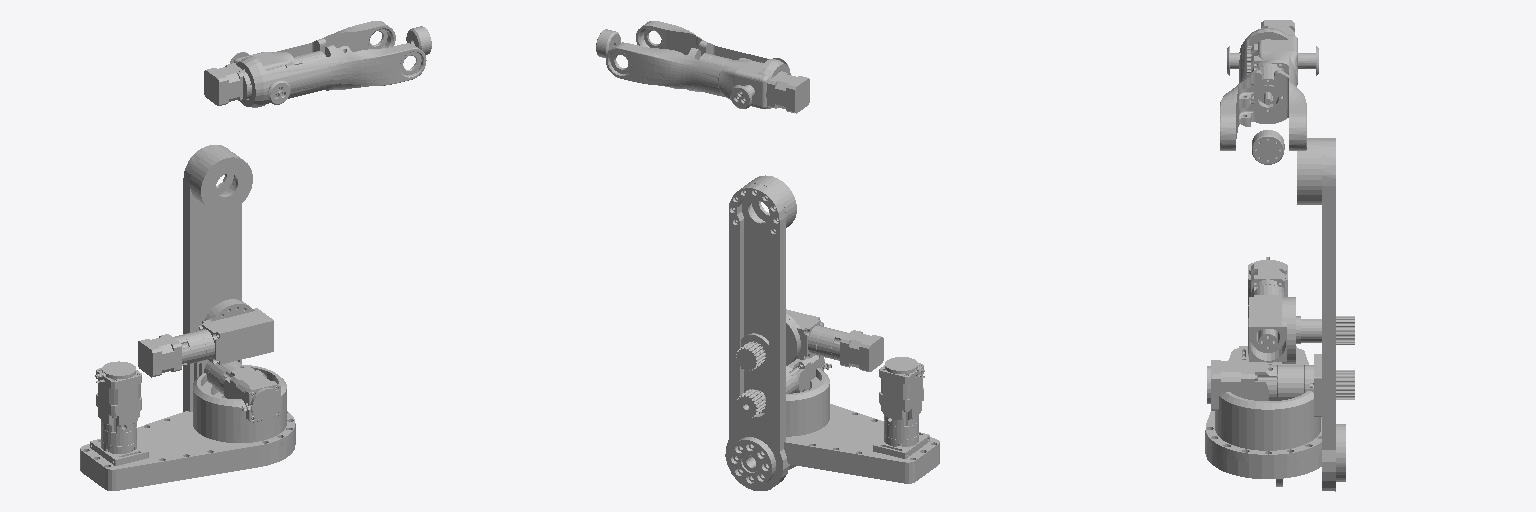
The robot description file, URDF, robot "robotic_arm_2":
<?xml version="1.0" encoding="utf-8"?>
<!-- This URDF was automatically created by SolidWorks to URDF Exporter! Originally created by [author] ([email redacted]) 
     Commit Version: 1.6.0-4-g7f85cfe  Build Version: 1.6.7995.38578
     For more information, please see http://wiki.ros.org/sw_urdf_exporter -->
<robot
  name="robotic_arm_2">
  <link
    name="base_link">
    <inertial>
      <origin
        xyz="-0.064318 2.9623E-07 0.039257"
        rpy="0 0 0" />
      <mass
        value="0.83438" />
      <inertia
        ixx="0.00098057"
        ixy="6.484E-08"
        ixz="2.6509E-06"
        iyy="0.0027303"
        iyz="-3.8674E-10"
        izz="0.0033643" />
    </inertial>
    <visual>
      <origin
        xyz="0 0 0"
        rpy="0 0 0" />
      <geometry>
        <mesh
          filename="package://arm_control/description/meshes/base_link.STL" />
      </geometry>
      <material
        name="">
        <color
          rgba="0.75294 0.75294 0.75294 1" />
      </material>
    </visual>
    <collision>
      <origin
        xyz="0 0 0"
        rpy="0 0 0" />
      <geometry>
        <mesh
          filename="package://arm_control/description/meshes/base_link.STL" />
      </geometry>
    </collision>
  </link>
  <link
    name="Link2">
    <inertial>
      <origin
        xyz="4.73671831842074E-05 0.106679007769717 0.0209476634854827"
        rpy="0 0 0" />
      <mass
        value="0.970074967448887" />
      <inertia
        ixx="0.00102783014668973"
        ixy="-3.26835540486067E-07"
        ixz="-5.27045735747468E-07"
        iyy="0.00118699235618725"
        iyz="2.97677287496639E-06"
        izz="0.000705617069557207" />
    </inertial>
    <visual>
      <origin
        xyz="0 0 0"
        rpy="0 0 0" />
      <geometry>
        <mesh
          filename="package://arm_control/description/meshes/Link2.STL" />
      </geometry>
      <material
        name="">
        <color
          rgba="0.752941176470588 0.752941176470588 0.752941176470588 1" />
      </material>
    </visual>
    <collision>
      <origin
        xyz="0 0 0"
        rpy="0 0 0" />
      <geometry>
        <mesh
          filename="package://arm_control/description/meshes/Link2.STL" />
      </geometry>
    </collision>
  </link>
  <joint
    name="J2"
    type="revolute">
    <origin
      xyz="0 0 0"
      rpy="1.5708 0 0" />
    <parent
      link="base_link" />
    <child
      link="Link2" />
    <axis
      xyz="0 1 0" />
    <limit
      lower="0"
      upper="6.2832"
      effort="10"
      velocity="10" />
  </joint>
  <link
    name="Link3">
    <inertial>
      <origin
        xyz="-1.46417876076557E-06 0.117729185705366 -0.0378668860722142"
        rpy="0 0 0" />
      <mass
        value="0.577415758791343" />
      <inertia
        ixx="0.0036047406071256"
        ixy="6.47760305401943E-08"
        ixz="1.20114307201048E-07"
        iyy="0.000412136925722125"
        iyz="-1.52201263463148E-05"
        izz="0.00360983067595921" />
    </inertial>
    <visual>
      <origin
        xyz="0 0 0"
        rpy="0 0 0" />
      <geometry>
        <mesh
          filename="package://arm_control/description/meshes/Link3.STL" />
      </geometry>
      <material
        name="">
        <color
          rgba="0.752941176470588 0.752941176470588 0.752941176470588 1" />
      </material>
    </visual>
    <collision>
      <origin
        xyz="0 0 0"
        rpy="0 0 0" />
      <geometry>
        <mesh
          filename="package://arm_control/description/meshes/Link3.STL" />
      </geometry>
    </collision>
  </link>
  <joint
    name="J3"
    type="revolute">
    <origin
      xyz="0 0.14 0"
      rpy="0 0 0" />
    <parent
      link="Link2" />
    <child
      link="Link3" />
    <axis
      xyz="0 0 1" />
    <limit
      lower="-1.5708"
      upper="1.5708"
      effort="10"
      velocity="10" />
  </joint>
  <link
    name="Link4">
    <inertial>
      <origin
        xyz="-0.0328882111255075 8.45678153560403E-07 -0.0129958354849986"
        rpy="0 0 0" />
      <mass
        value="0.251663957012598" />
      <inertia
        ixx="6.72067273429369E-05"
        ixy="4.83904268931065E-09"
        ixz="-2.18784718458254E-08"
        iyy="0.000125285505512965"
        iyz="3.4987623387703E-15"
        izz="0.000132327236956115" />
    </inertial>
    <visual>
      <origin
        xyz="0 0 0"
        rpy="0 0 0" />
      <geometry>
        <mesh
          filename="package://arm_control/description/meshes/Link4.STL" />
      </geometry>
      <material
        name="">
        <color
          rgba="0.752941176470588 0.752941176470588 0.752941176470588 1" />
      </material>
    </visual>
    <collision>
      <origin
        xyz="0 0 0"
        rpy="0 0 0" />
      <geometry>
        <mesh
          filename="package://arm_control/description/meshes/Link4.STL" />
      </geometry>
    </collision>
  </link>
  <joint
    name="J4"
    type="revolute">
    <origin
      xyz="0 0.322 0"
      rpy="0 0 0" />
    <parent
      link="Link3" />
    <child
      link="Link4" />
    <axis
      xyz="0 0 1" />
    <limit
      lower="0"
      upper="6.28"
      effort="10"
      velocity="10" />
  </joint>
  <link
    name="Link5">
    <inertial>
      <origin
        xyz="0.0959443943338804 -0.000157341807048905 0.0010750794524604"
        rpy="0 0 0" />
      <mass
        value="0.300029723918034" />
      <inertia
        ixx="0.000212980238341323"
        ixy="-2.15575275811437E-07"
        ixz="-1.6194197089621E-05"
        iyy="0.000911097635143181"
        iyz="-6.20583067747309E-08"
        izz="0.000780565263602578" />
    </inertial>
    <visual>
      <origin
        xyz="0 0 0"
        rpy="0 0 0" />
      <geometry>
        <mesh
          filename="package://arm_control/description/meshes/Link5.STL" />
      </geometry>
      <material
        name="">
        <color
          rgba="0.752941176470588 0.752941176470588 0.752941176470588 1" />
      </material>
    </visual>
    <collision>
      <origin
        xyz="0 0 0"
        rpy="0 0 0" />
      <geometry>
        <mesh
          filename="package://arm_control/description/meshes/Link5.STL" />
      </geometry>
    </collision>
  </link>
  <joint
    name="J5"
    type="revolute">
    <origin
      xyz="0.03 0 0"
      rpy="0 0 0" />
    <parent
      link="Link4" />
    <child
      link="Link5" />
    <axis
      xyz="1 0 0" />
    <limit
      lower="0"
      upper="6.28"
      effort="10"
      velocity="10" />
  </joint>
  <link
    name="Link6">
    <inertial>
      <origin
        xyz="-0.00928309942886629 1.2483555139553E-05 0.000438348836310247"
        rpy="0 0 0" />
      <mass
        value="0.155889261418066" />
      <inertia
        ixx="4.2854966162532E-05"
        ixy="-4.5957858458414E-08"
        ixz="1.10962985052551E-06"
        iyy="9.76511984630009E-05"
        iyz="4.43419182917848E-09"
        izz="9.25375630975329E-05" />
    </inertial>
    <visual>
      <origin
        xyz="0 0 0"
        rpy="0 0 0" />
      <geometry>
        <mesh
          filename="package://arm_control/description/meshes/Link6.STL" />
      </geometry>
      <material
        name="">
        <color
          rgba="0.752941176470588 0.752941176470588 0.752941176470588 1" />
      </material>
    </visual>
    <collision>
      <origin
        xyz="0 0 0"
        rpy="0 0 0" />
      <geometry>
        <mesh
          filename="package://arm_control/description/meshes/Link6.STL" />
      </geometry>
    </collision>
  </link>
  <joint
    name="J6"
    type="revolute">
    <origin
      xyz="0.20275 0 0"
      rpy="0 0 0" />
    <parent
      link="Link5" />
    <child
      link="Link6" />
    <axis
      xyz="0 0 1" />
    <limit
      lower="0"
      upper="6.28"
      effort="0"
      velocity="0" />
  </joint>
  <link
    name="Link7">
    <inertial>
      <origin
        xyz="0.00833988976417122 0.000113774503086916 -1.32771167541193E-10"
        rpy="0 0 0" />
      <mass
        value="0.0135263682638669" />
      <inertia
        ixx="2.02217071919662E-06"
        ixy="5.87479646435347E-09"
        ixz="-8.97698504887139E-15"
        iyy="1.3204524747585E-06"
        iyz="-1.52963228539654E-14"
        izz="1.3036592664547E-06" />
    </inertial>
    <visual>
      <origin
        xyz="0 0 0"
        rpy="0 0 0" />
      <geometry>
        <mesh
          filename="package://arm_control/description/meshes/Link7.STL" />
      </geometry>
      <material
        name="">
        <color
          rgba="0.752941176470588 0.752941176470588 0.752941176470588 1" />
      </material>
    </visual>
    <collision>
      <origin
        xyz="0 0 0"
        rpy="0 0 0" />
      <geometry>
        <mesh
          filename="package://arm_control/description/meshes/Link7.STL" />
      </geometry>
    </collision>
  </link>
  <joint
    name="J7"
    type="revolute">
    <origin
      xyz="0.02775 0 -0.001"
      rpy="0 0 0" />
    <parent
      link="Link6" />
    <child
      link="Link7" />
    <axis
      xyz="1 0 0" />
    <limit
      lower="0"
      upper="6.28"
      effort="0"
      velocity="0" />
  </joint>
</robot>

--- What the picture shows (computed from the rendered views, not written in the file) ---
The picture shows the robot from 3 angles, left to right: view 1: azimuth 30°, elevation 25°; view 2: azimuth 150°, elevation 25°; view 3: azimuth 270°, elevation 25°; orthographic projection.
Robot: robotic_arm_2 — 7 links, 6 joints (6 revolute); root link base_link; default pose: every joint at zero.
Visible links, largest first — view 1: base_link, Link2, Link4, Link3, Link5; view 2: Link2, base_link, Link4, Link3, Link5; view 3: Link2, base_link, Link4, Link3, Link5, Link6.
Link boxes in pixels (<box>): base_link: <box>80,361,295,490</box>; Link2: <box>183,145,281,422</box>; Link4: <box>236,21,426,107</box>; Link3: <box>138,299,273,377</box>; Link5: <box>204,52,293,105</box>; Link2: <box>725,175,831,490</box>; base_link: <box>752,357,939,483</box>; Link4: <box>606,21,790,108</box>; Link3: <box>735,309,883,371</box>; Link5: <box>718,58,809,113</box>; Link2: <box>1207,138,1354,491</box>; base_link: <box>1205,257,1321,478</box>; Link4: <box>1220,28,1306,150</box>; Link3: <box>1249,263,1354,363</box>; Link5: <box>1227,20,1318,84</box>; Link6: <box>1252,130,1284,164</box>.
Size in the robot's own frame: 0.4463 by 0.1544 by 0.532 metres.
6 mesh visuals loaded from 7 distinct referenced files (6 binary STL); not drawn: 1 (reference not matched to a file when rendering).